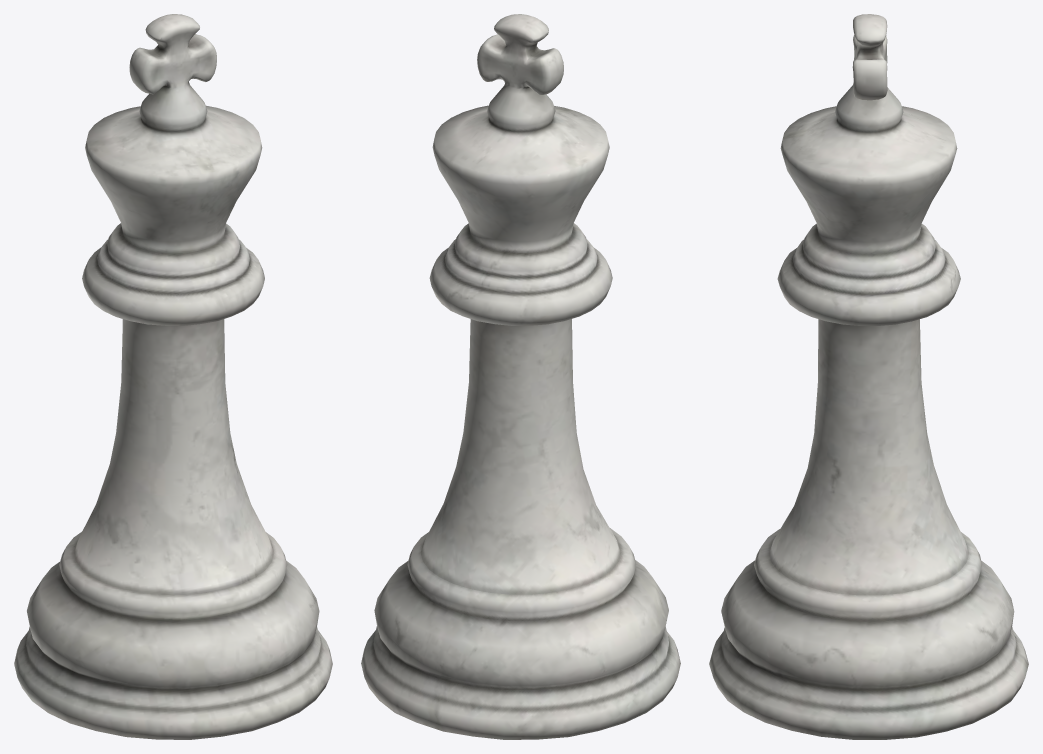
The picture shows the model from 3 angles, left to right: view 1: azimuth 30°, elevation 25°; view 2: azimuth 150°, elevation 25°; view 3: azimuth 270°, elevation 25°; orthographic projection.
Visible parts, largest first — view 1: piece_king_white; view 2: piece_king_white; view 3: piece_king_white.
Part boxes in pixels (x1,y1,x2,y2): piece_king_white: (14,14,332,739); piece_king_white: (361,14,680,739); piece_king_white: (709,14,1028,739).
Size of the model in its own units: 0.0415 by 0.095 by 0.0417.
1 material, 1 textured.
